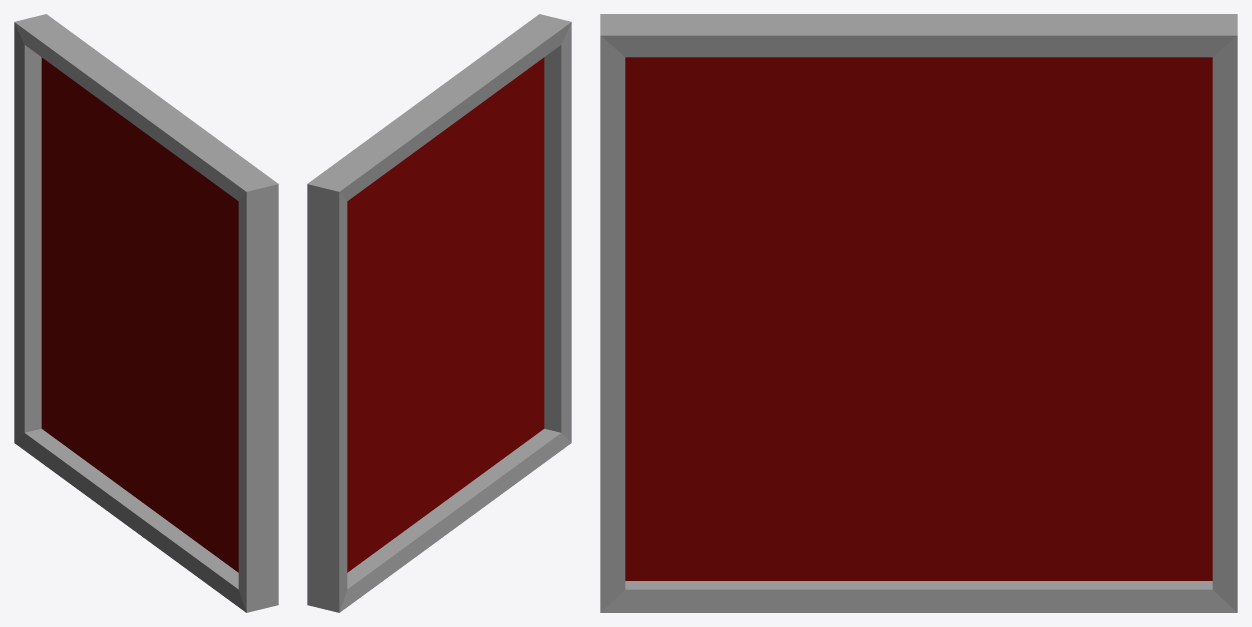
File: mirrorOrPicturewithframe.fbx
3 renders of one model, left to right at view 1: azimuth 30°, elevation 25°; view 2: azimuth 150°, elevation 25°; view 3: azimuth 270°, elevation 25°, orthographic. The views are drawn at different scales.
Visible parts, largest first — view 1: pPlane1, pCube5; view 2: pPlane1, pCube5; view 3: pPlane1, pCube5.
Boxes of the visible parts, box(x1,y1,x2,y2) form: pPlane1: box(41, 57, 238, 572); pCube5: box(14, 14, 278, 612); pPlane1: box(347, 57, 544, 572); pCube5: box(307, 14, 571, 612); pPlane1: box(625, 57, 1212, 580); pCube5: box(600, 14, 1237, 612).
Bounding box in the file's own units: 0.4798 × 5.98 × 5.98.
